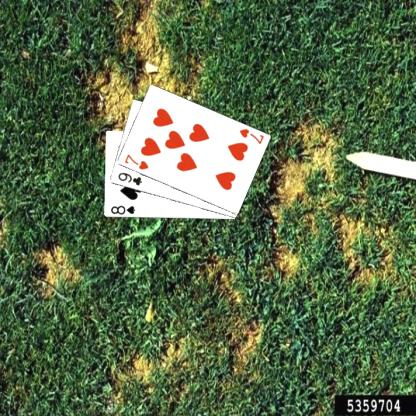7H: (236, 126, 264, 146), (122, 152, 150, 171)
8S: (108, 203, 136, 216)
9C: (115, 170, 143, 187)
